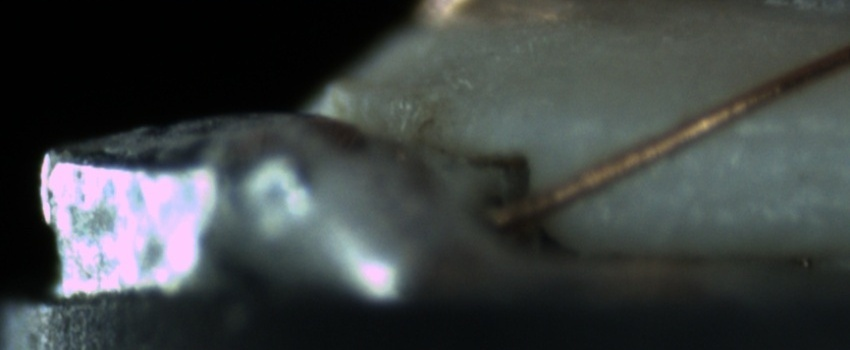DL: (670, 105, 848, 168)
